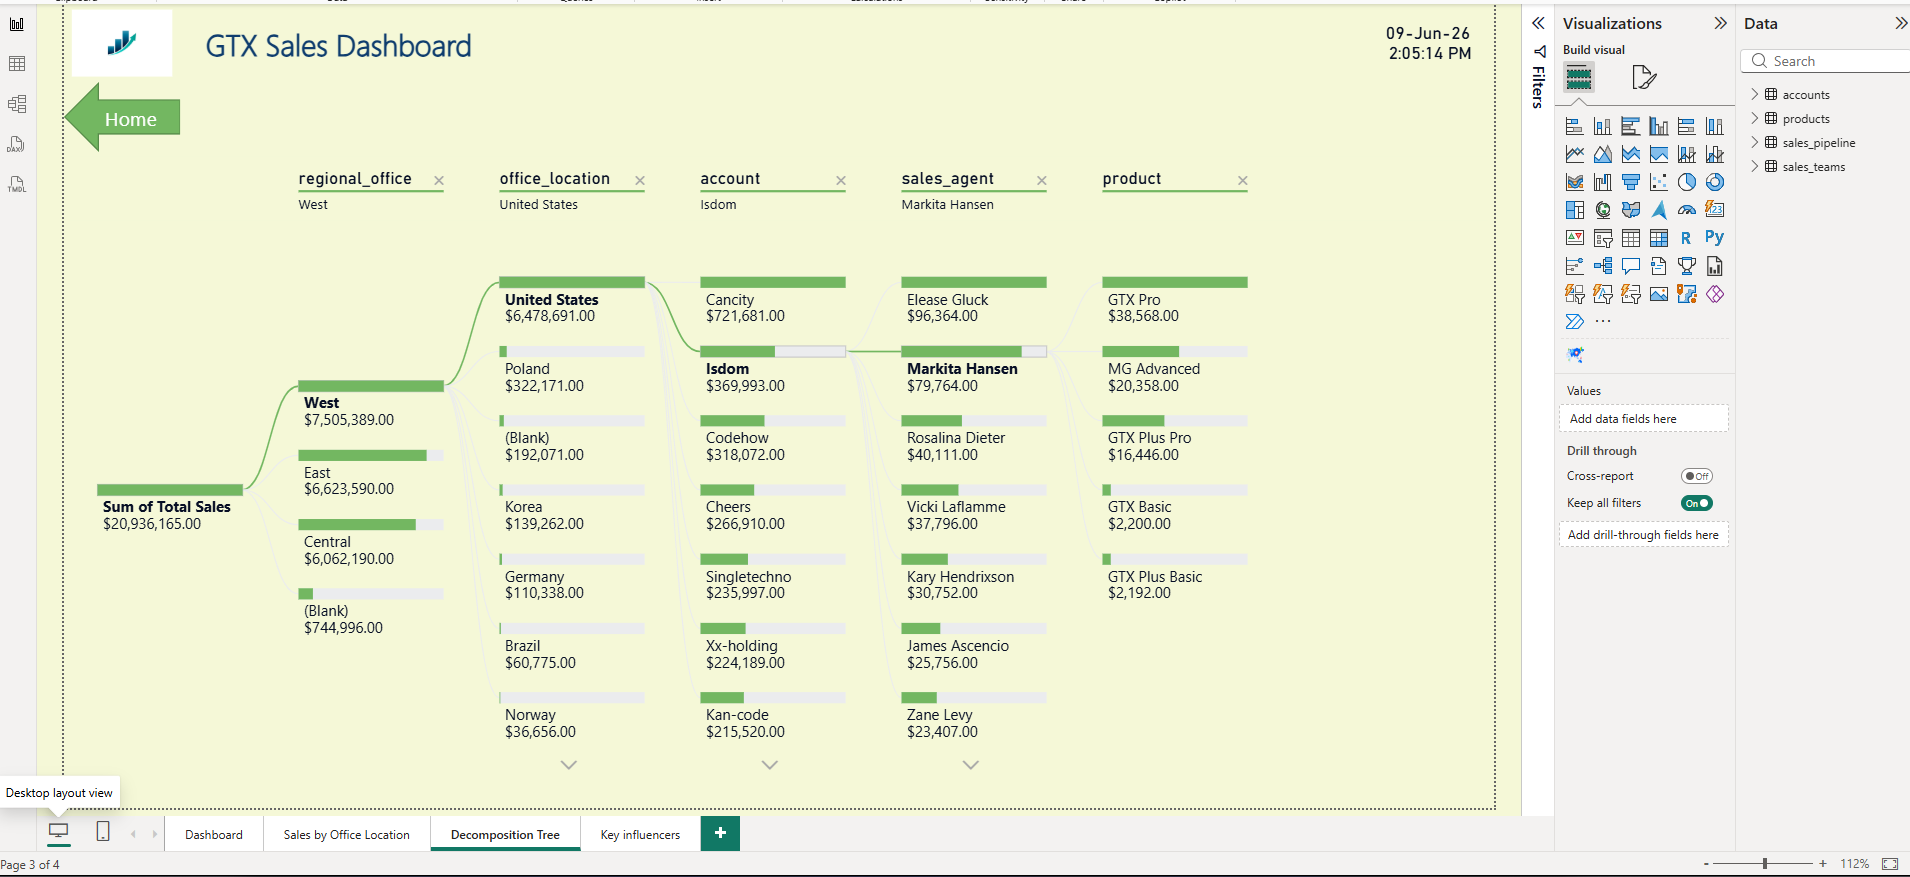

The page's visual inventory and layout, read from the dashboard file:
{"tool":"powerbi","page":{"name":"Decomposition Tree","canvas":[1280,720],"ordinal":2},"visuals":[{"type":"decompositionTreeVisual","fields":{"Analyze":["Sum(sales_pipeline.Total Sales)"],"ExplainBy":["sales_teams.regional_office","accounts.office_location","accounts.account","sales_teams.sales_agent","products.product"]},"box":[0,132.1,1280,587.2],"z":0},{"type":"image","box":[0,0,103.7,70],"z":1000},{"type":"textbox","box":[103.7,12.4,284.6,49.7],"z":2000},{"type":"card","fields":{"Values":["accounts.DateTime"]},"box":[1166.7,0,113.3,70.1],"z":3000},{"type":"shape","box":[0,69.6,104.3,62.6],"z":4000}]}

Visuals, with their boxes on the page's 1280x720 design canvas (x1, y1, x2, y2). These are canvas units, not pixel positions in the 1910x877 screenshot, which may show the page scaled, cropped or inside an application window:
decompositionTreeVisual - Sum(sales_pipeline.Total Sales) x sales_teams.regional_office: l=0, t=132, r=1280, b=719
image: l=0, t=0, r=104, b=70
textbox: l=104, t=12, r=388, b=62
card - accounts.DateTime: l=1167, t=0, r=1280, b=70
shape: l=0, t=70, r=104, b=132
